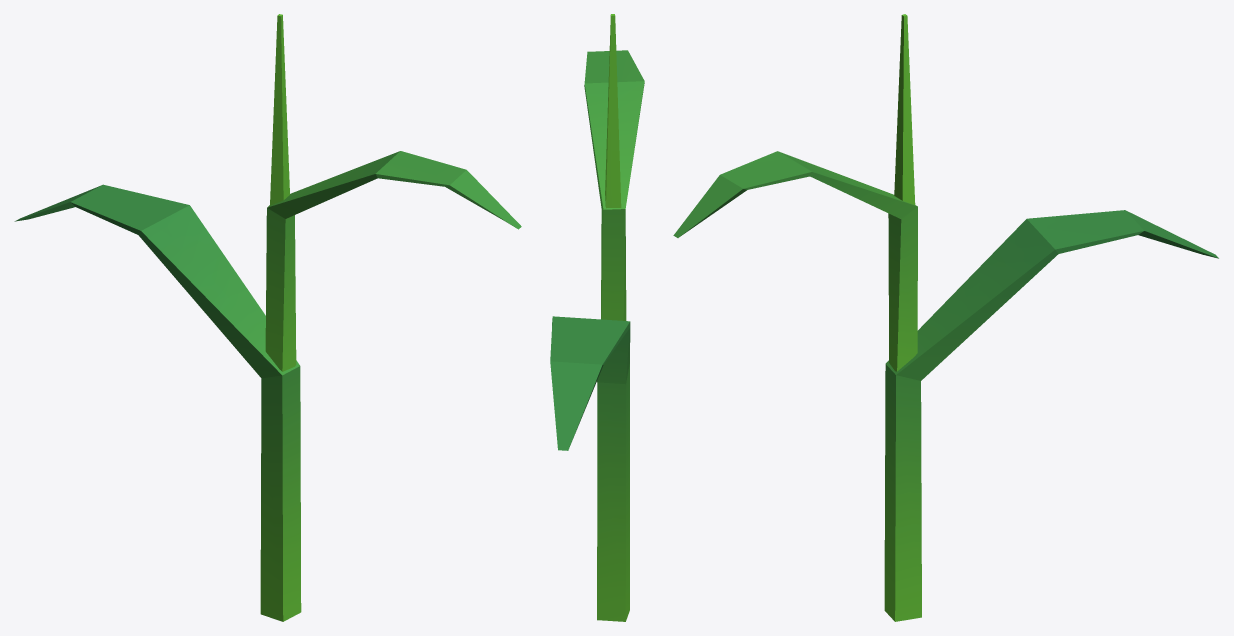
File: corn2.glb
3 renders of one model, left to right at view 1: azimuth 30°, elevation 25°; view 2: azimuth 150°, elevation 25°; view 3: azimuth 270°, elevation 25°, orthographic.
Parts seen in each view (by area): view 1: Corn2; view 2: Corn2; view 3: Corn2.
Part boxes in pixels (x1=…): Corn2: x1=14, y1=14, x2=521, y2=621; Corn2: x1=550, y1=14, x2=644, y2=621; Corn2: x1=673, y1=14, x2=1218, y2=621.
Bounding box in the file's own units: 0.3454 × 0.8244 × 0.6815.
Materials: 1 (1 with a texture image).
